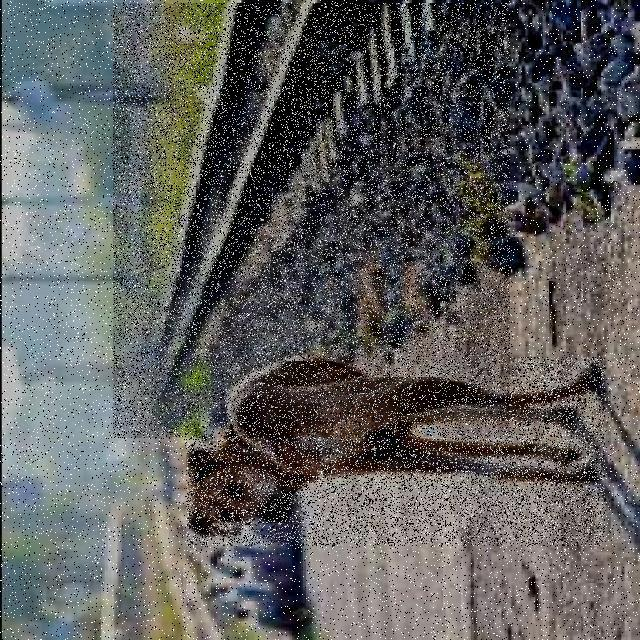rail: (114, 5, 511, 439)
